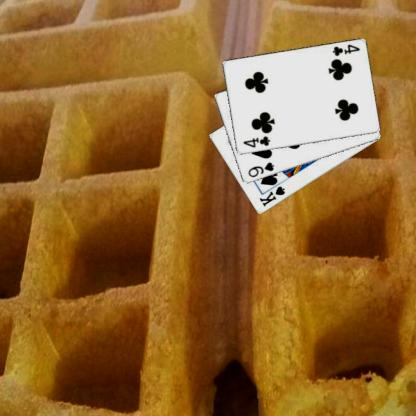4C: (329, 42, 361, 58), (240, 133, 271, 149)
9S: (246, 159, 276, 179)
KS: (257, 184, 286, 208)
